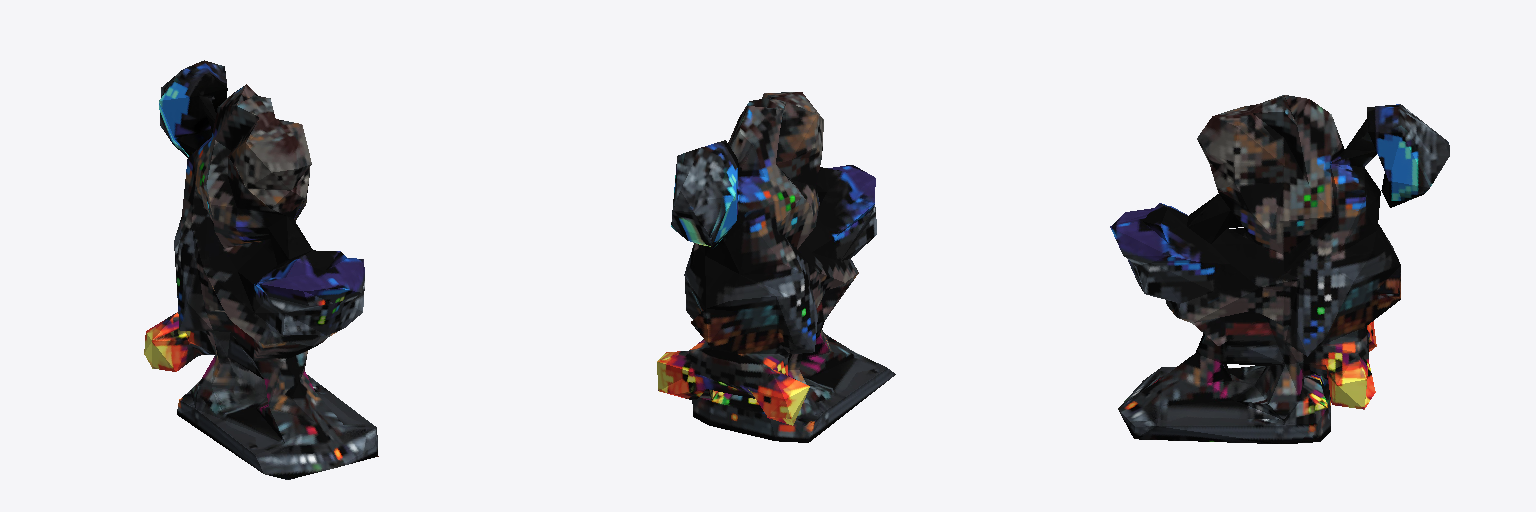
3 renders of one model, left to right at view 1: azimuth 30°, elevation 25°; view 2: azimuth 150°, elevation 25°; view 3: azimuth 270°, elevation 25°, orthographic.
Parts seen in each view (by area): view 1: tripo_node_5f2131e3-9ed7-4318-8c86-9e59ae31e99e; view 2: tripo_node_5f2131e3-9ed7-4318-8c86-9e59ae31e99e; view 3: tripo_node_5f2131e3-9ed7-4318-8c86-9e59ae31e99e.
Boxes of the visible parts, <box> form: tripo_node_5f2131e3-9ed7-4318-8c86-9e59ae31e99e: <box>144,60,378,479</box>; tripo_node_5f2131e3-9ed7-4318-8c86-9e59ae31e99e: <box>657,92,895,442</box>; tripo_node_5f2131e3-9ed7-4318-8c86-9e59ae31e99e: <box>1110,95,1449,443</box>.
Size of the model in its own units: 0.4803 by 1 by 0.9652.
1 materials, 1 textured.